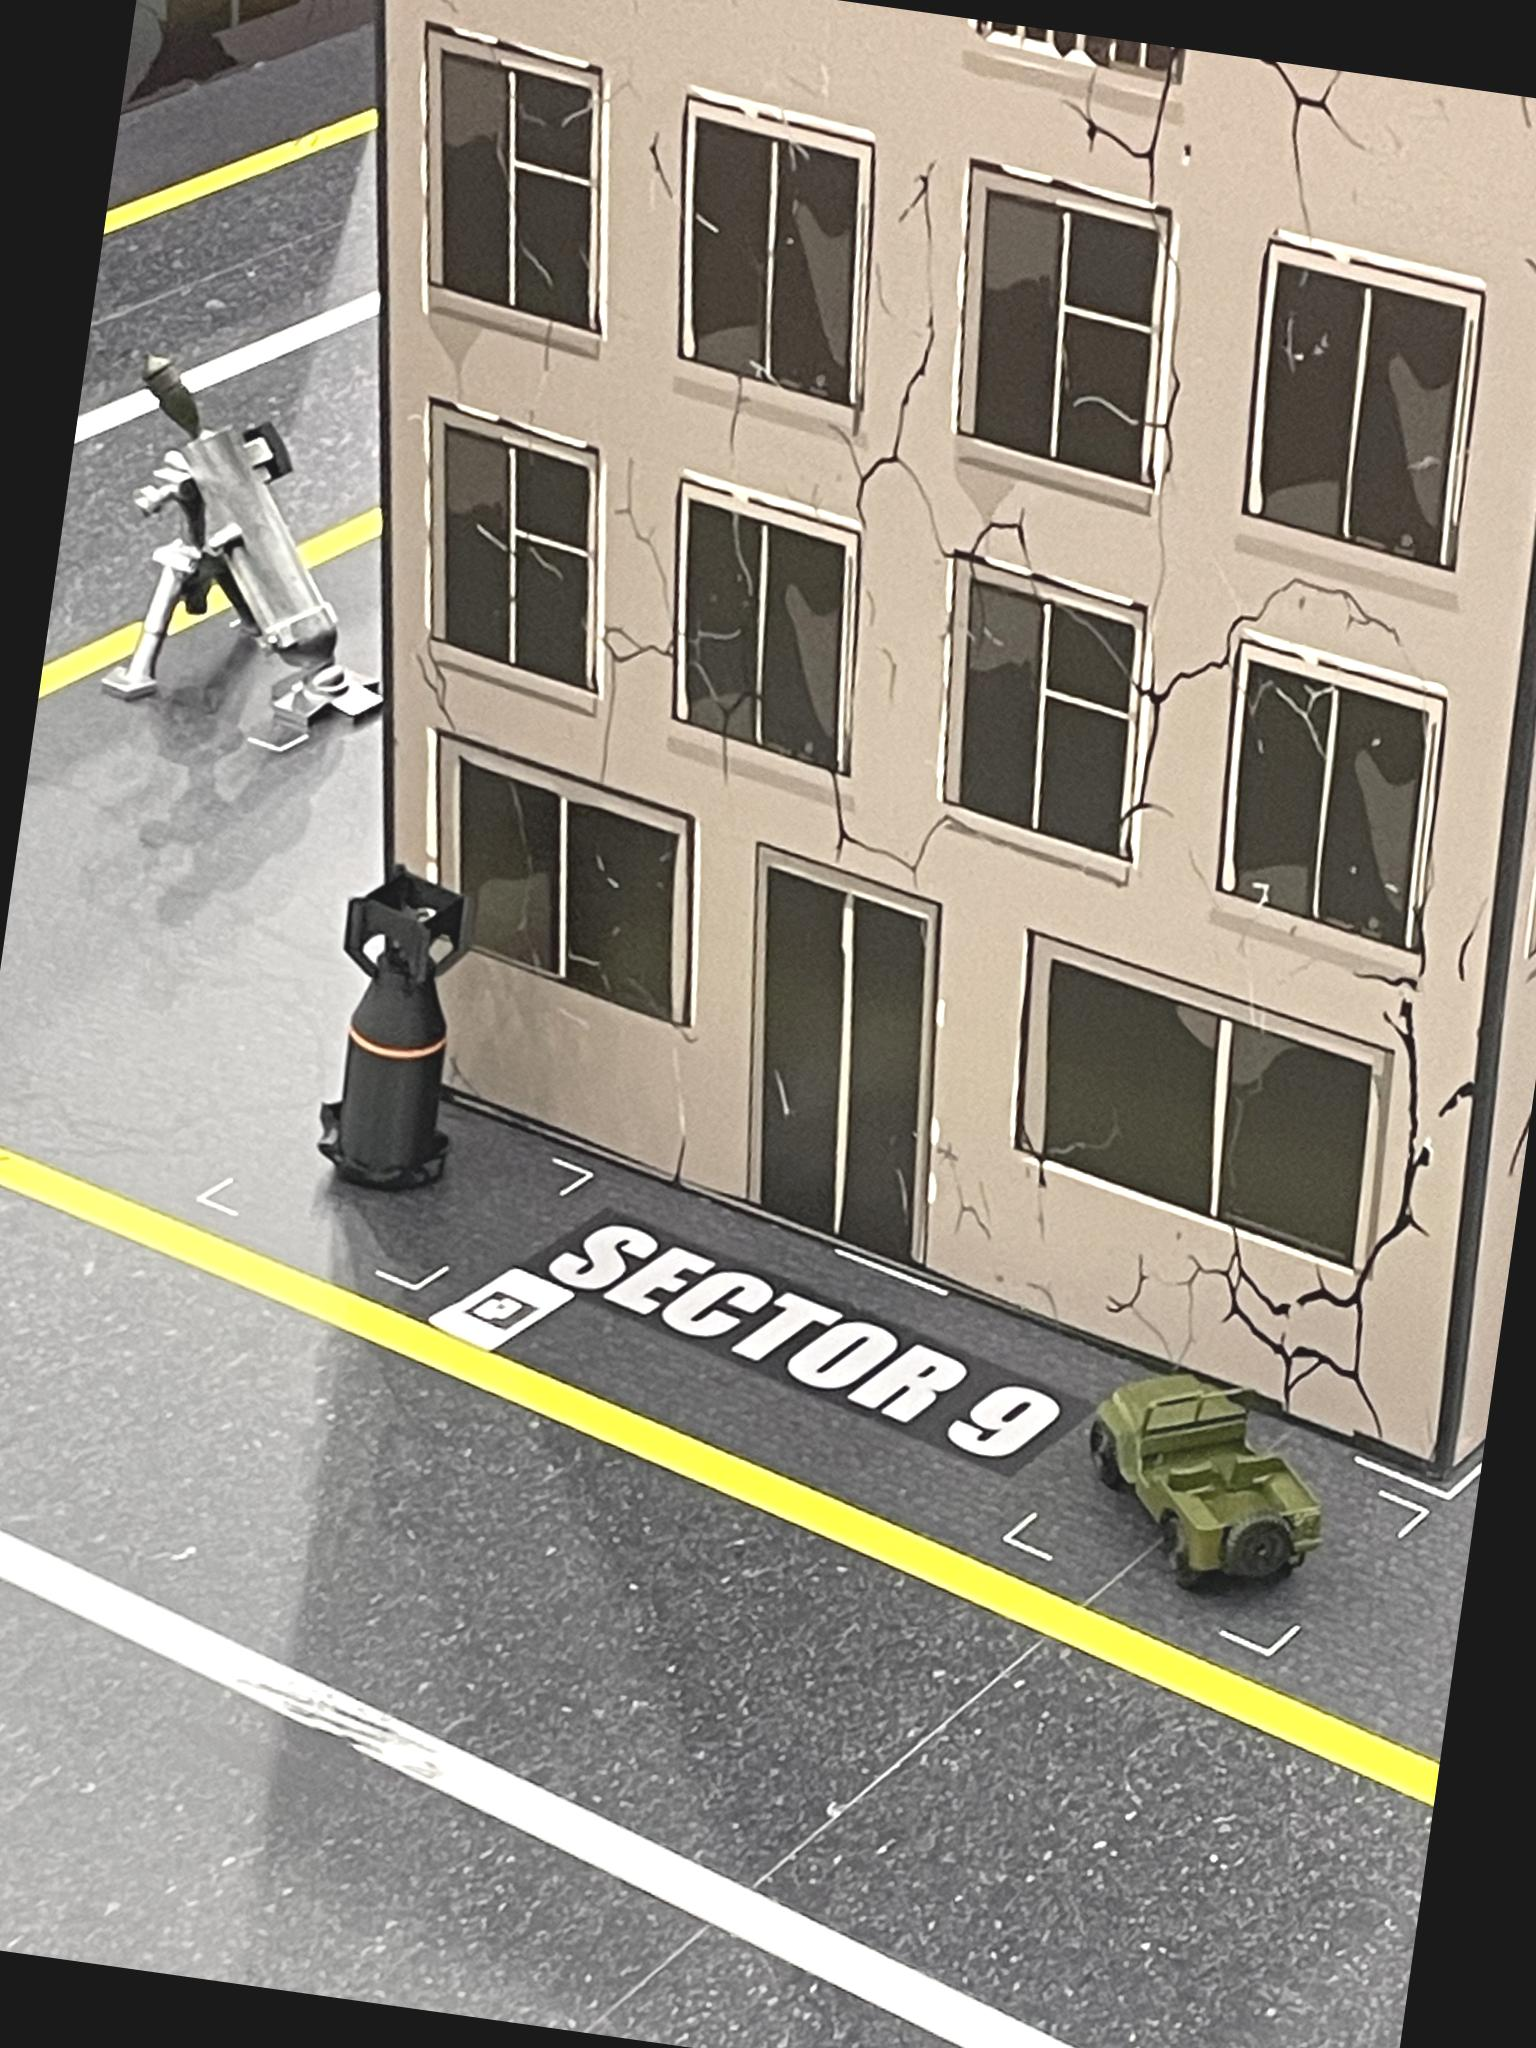Car: (1042, 1332, 1352, 1634)
Missile: (302, 851, 495, 1200)
Mortar: (84, 340, 421, 764)
